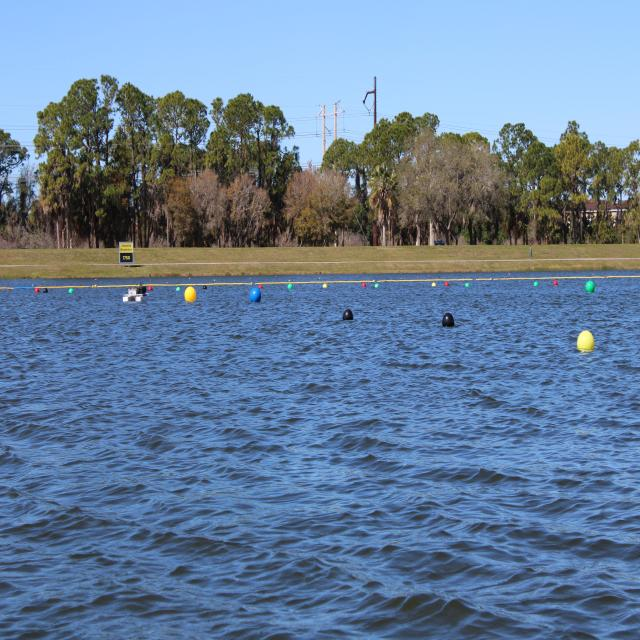black-buoy: (442, 312, 457, 327), (344, 308, 354, 322)
blue-buoy: (250, 287, 262, 304)
green-buoy: (586, 281, 597, 294), (287, 283, 293, 291), (464, 283, 470, 289)
red-buoy: (35, 287, 41, 293), (554, 280, 559, 286), (362, 282, 366, 288)
yellow-buoy: (576, 332, 594, 354), (184, 285, 196, 303), (431, 282, 436, 289)
